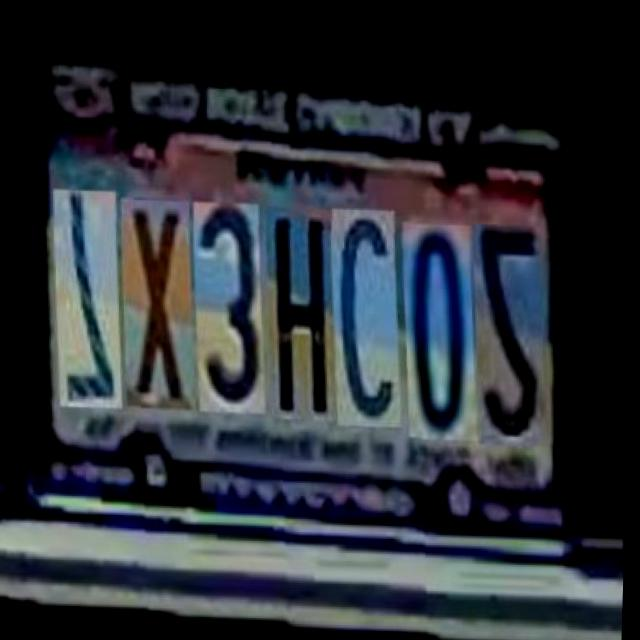2: (473, 219, 557, 442)
3: (195, 203, 275, 414)
7: (54, 193, 134, 413)
c: (331, 207, 412, 427)
h: (267, 207, 348, 419)
o: (404, 220, 488, 438)
x: (122, 202, 205, 411)
